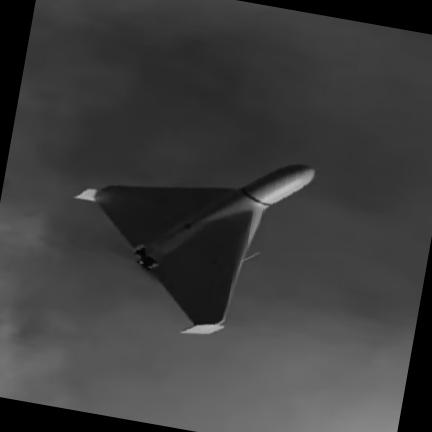Shahed: (75, 165, 313, 334)
